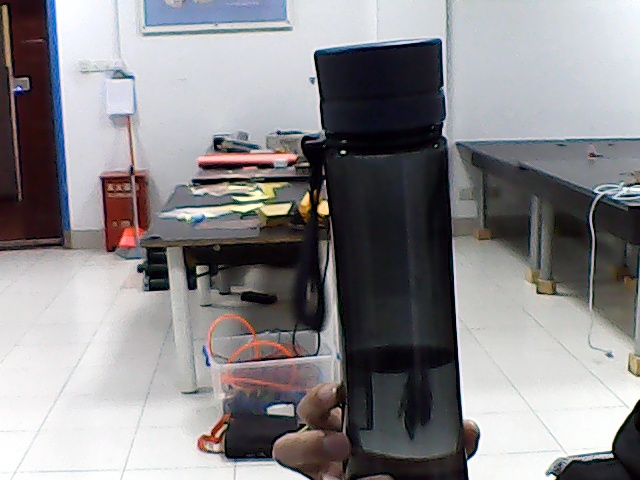cup: (327, 55, 446, 334)
